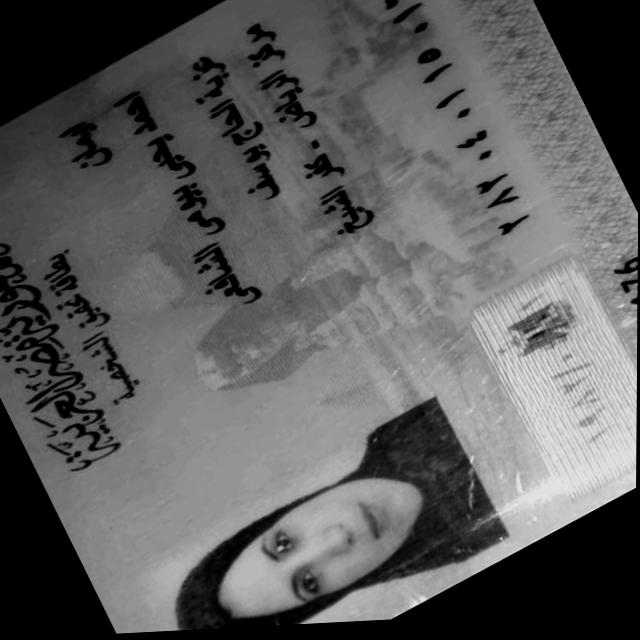front: (0, 0, 638, 634)
